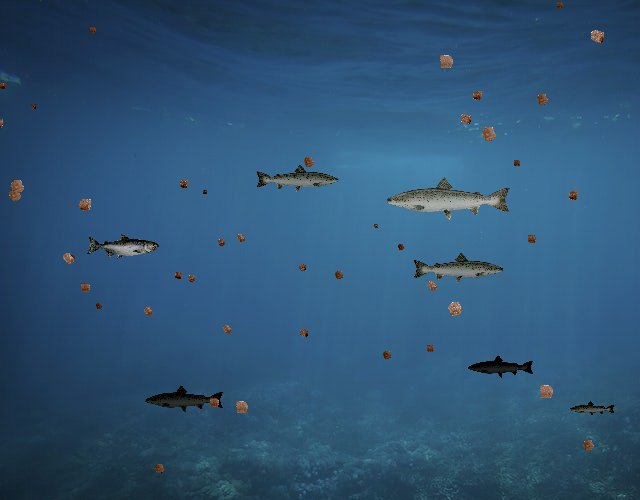Fish: (384, 175, 513, 221), (411, 251, 505, 285), (254, 163, 340, 194), (144, 385, 225, 414), (87, 234, 160, 260), (467, 354, 535, 378), (570, 401, 617, 418)
Pellet: (56, 246, 81, 271), (576, 433, 600, 457), (27, 100, 39, 112)
